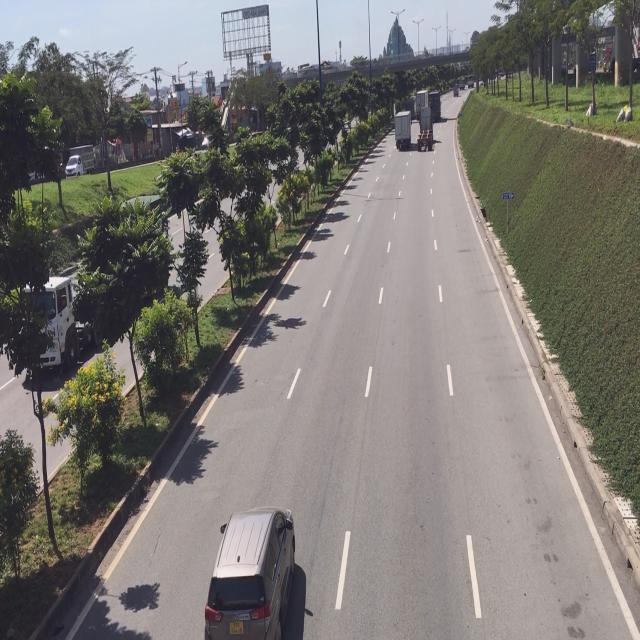car: (202, 506, 300, 639)
truck: (416, 110, 436, 152), (392, 108, 412, 149)
